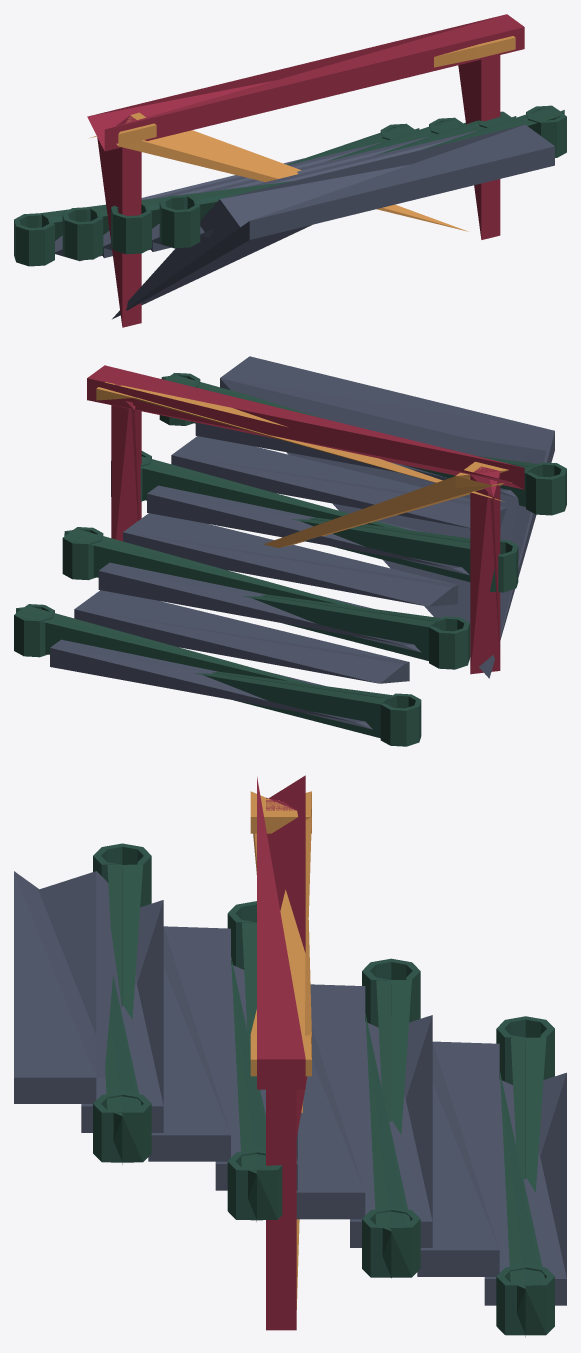
The model's file is moonfall_shrine_stair.obj.
3 renders of one model, top to bottom at view 1: azimuth 30°, elevation 25°; view 2: azimuth 150°, elevation 25°; view 3: azimuth 270°, elevation 25°, orthographic. The views are drawn at different scales.
Parts seen in each view (by area): view 1: moonfall_shrine_stair; view 2: moonfall_shrine_stair; view 3: moonfall_shrine_stair.
Boxes of the visible parts, box(x1,y1,x2,y2) form: moonfall_shrine_stair: box(14, 14, 566, 327); moonfall_shrine_stair: box(14, 356, 566, 746); moonfall_shrine_stair: box(14, 775, 566, 1337).
Bounding box in the file's own units: 11 × 5.15 × 9.05.
